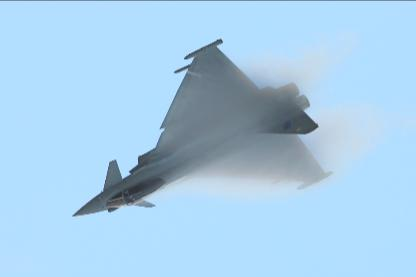E2: (72, 39, 334, 217)
